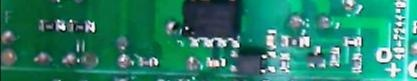chip-capacitor: (264, 27, 277, 50), (205, 56, 227, 69)
chip-resistor: (279, 33, 312, 49), (67, 18, 98, 35), (37, 18, 65, 34), (136, 54, 160, 69), (328, 45, 341, 68), (350, 53, 363, 75), (341, 35, 363, 48), (278, 51, 290, 74)
ic: (180, 0, 244, 49), (228, 48, 277, 74)
transistor: (306, 44, 327, 70)
